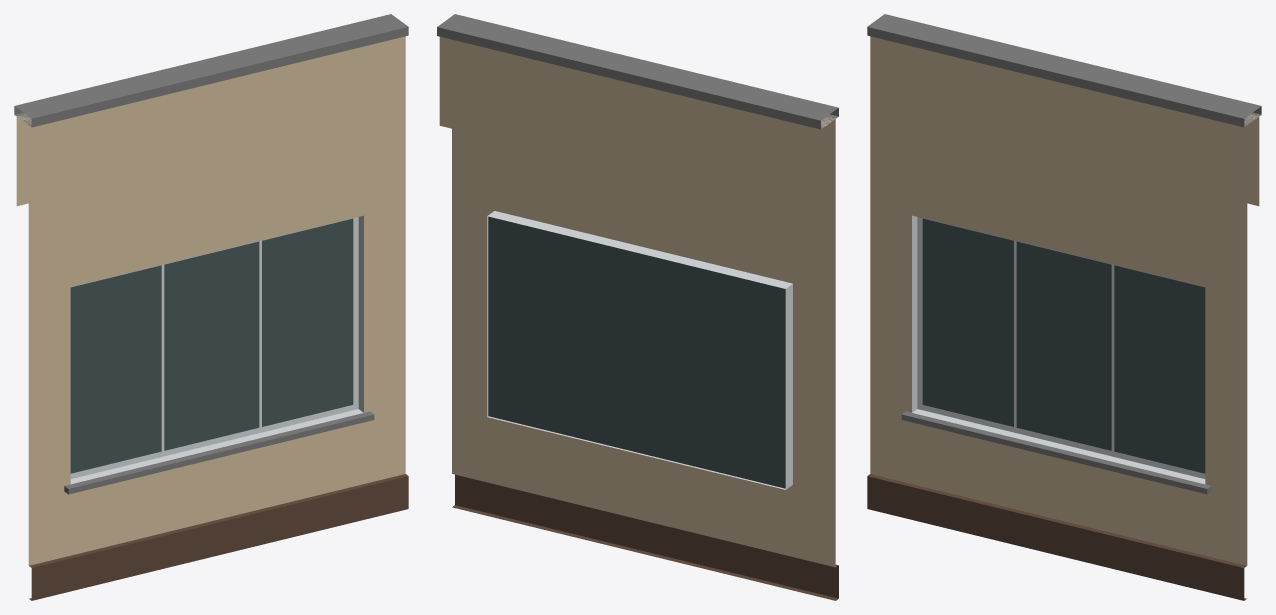
File: top-w1.fbx
3 renders of one model, left to right at view 1: azimuth 30°, elevation 25°; view 2: azimuth 150°, elevation 25°; view 3: azimuth 330°, elevation 25°, orthographic.
Visible parts, largest first — view 1: a2009/200/top-w1; view 2: a2009/200/top-w1; view 3: a2009/200/top-w1.
Part boxes in pixels (left/top/right/bottom): a2009/200/top-w1: left=14, top=14, right=408, bottom=600; a2009/200/top-w1: left=437, top=14, right=838, bottom=600; a2009/200/top-w1: left=867, top=14, right=1261, bottom=600.
Bounding box in the file's own units: 3.6 × 4.4 × 0.31.
